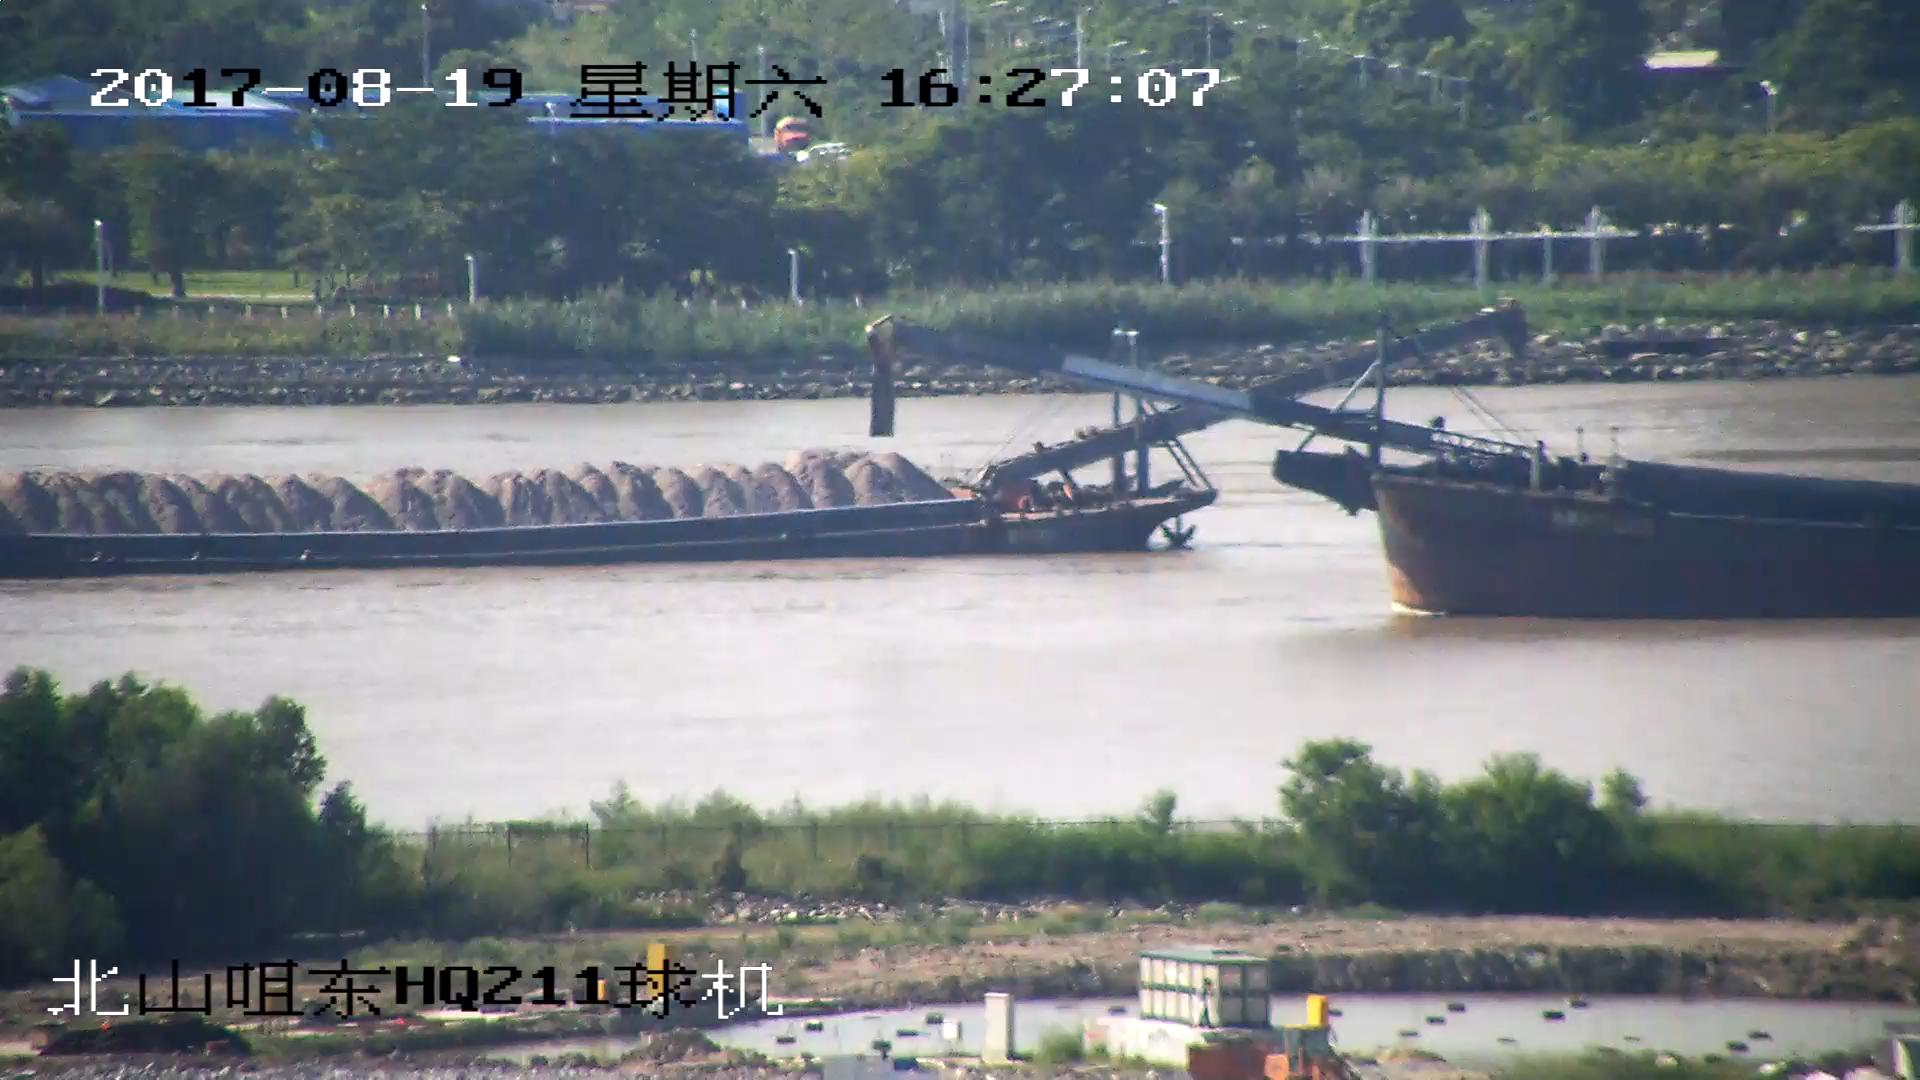bulk cargo carrier: (866, 315, 1920, 622)
ore carrier: (1, 304, 1512, 579)
